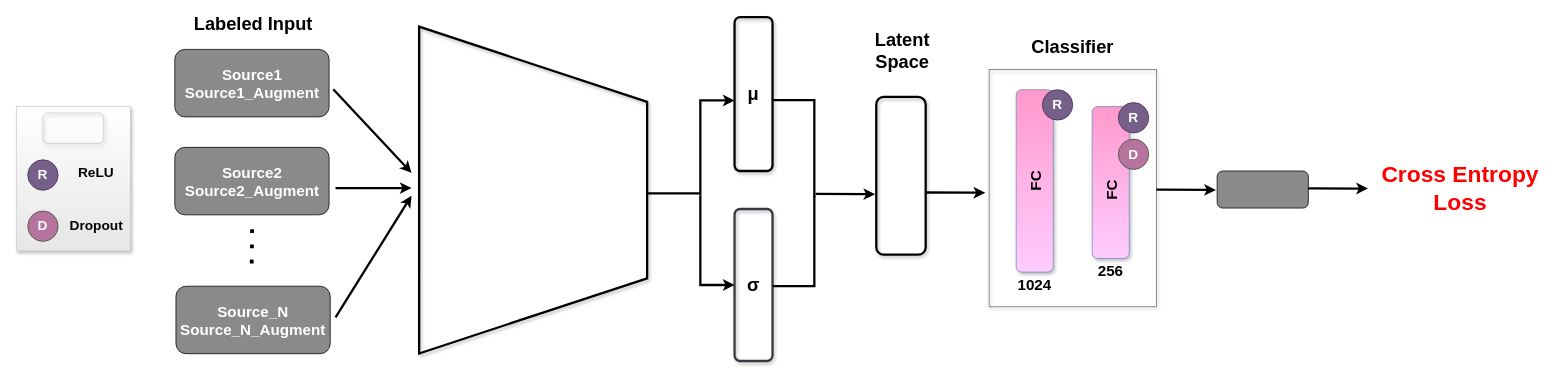
The diagram is 1565 pixels wide and 381 high, and some of its shapes have lost their labels. Each missing label, with the centre of its shape:
"Encoder" goes at (x=533, y=190).
"Legend" goes at (x=73, y=129).
"Output" goes at (x=1262, y=189).
"Z Z_Augment" goes at (x=901, y=176).
